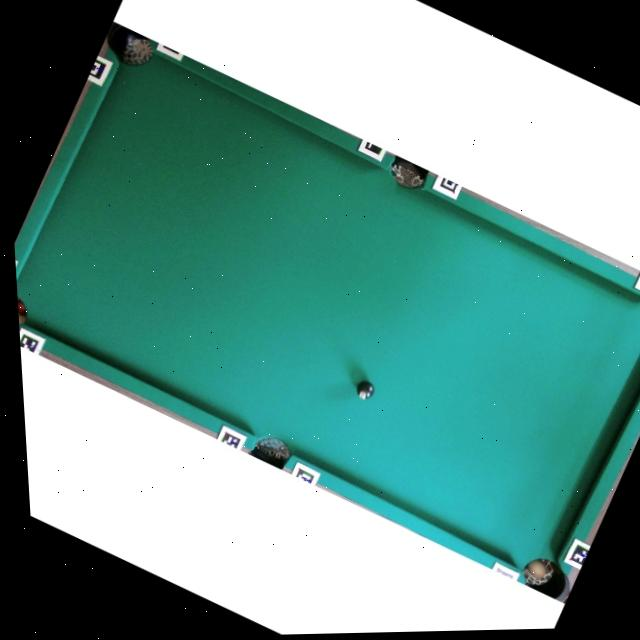other: (352, 378, 377, 402)
